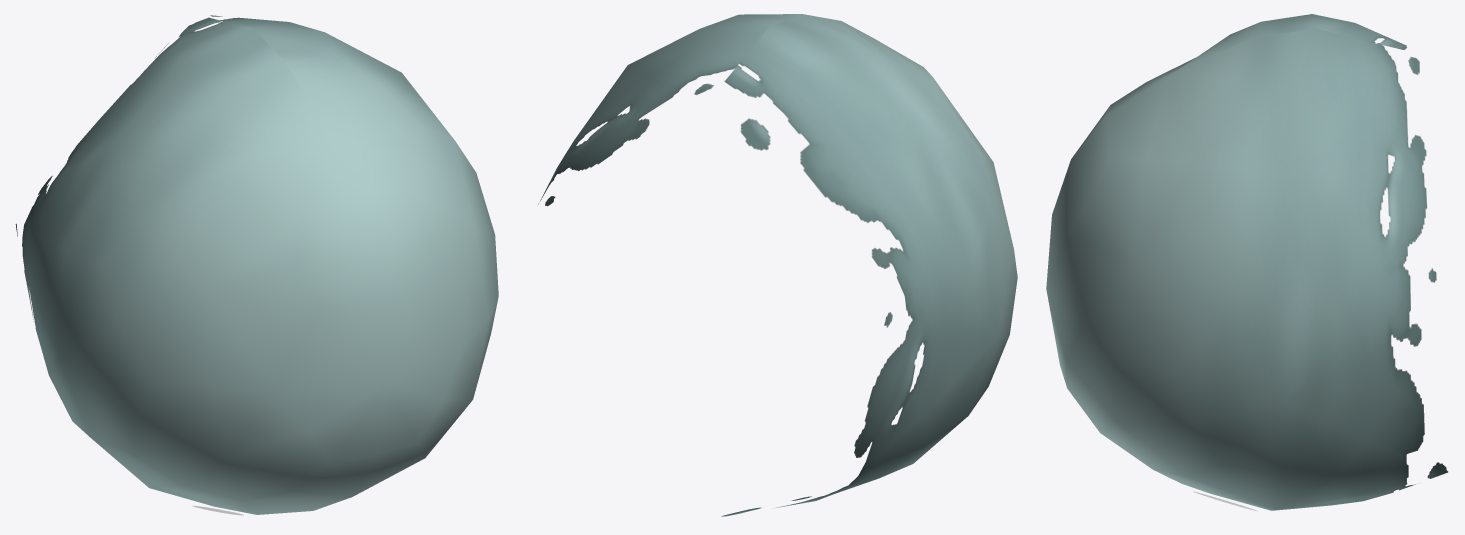
File: model_snowhead.glb
The picture shows the model from 3 angles, left to right: view 1: azimuth 30°, elevation 25°; view 2: azimuth 150°, elevation 25°; view 3: azimuth 270°, elevation 25°; orthographic projection.
Visible parts, largest first — view 1: ice.model_snowhead-MeshNodes["bone_root"]; view 2: ice.model_snowhead-MeshNodes["bone_root"]; view 3: ice.model_snowhead-MeshNodes["bone_root"].
Part boxes in pixels (left/top/right/bottom): ice.model_snowhead-MeshNodes["bone_root"]: left=15, top=15, right=498, bottom=514; ice.model_snowhead-MeshNodes["bone_root"]: left=538, top=14, right=1017, bottom=516; ice.model_snowhead-MeshNodes["bone_root"]: left=1046, top=14, right=1448, bottom=510.
Bounding box in the file's own units: 0.6536 × 0.6904 × 0.5445.
2 materials, 2 textured.
